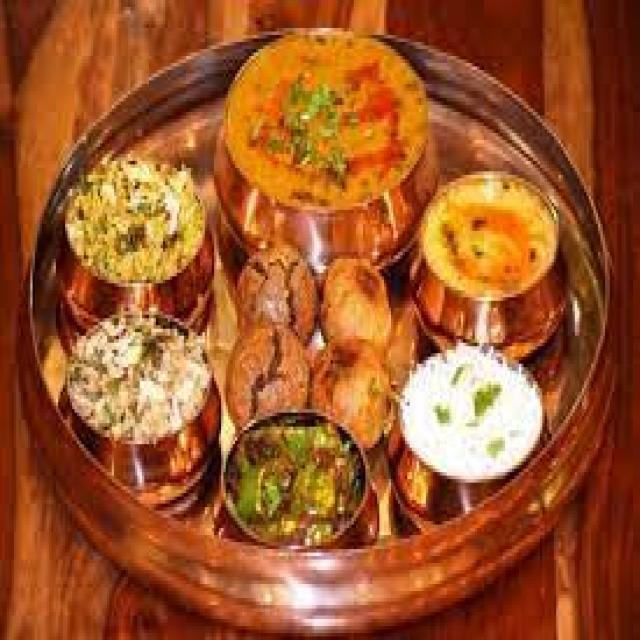dal: (220, 9, 409, 210)
rice: (394, 342, 550, 491)
veg-fry: (221, 401, 378, 561)
